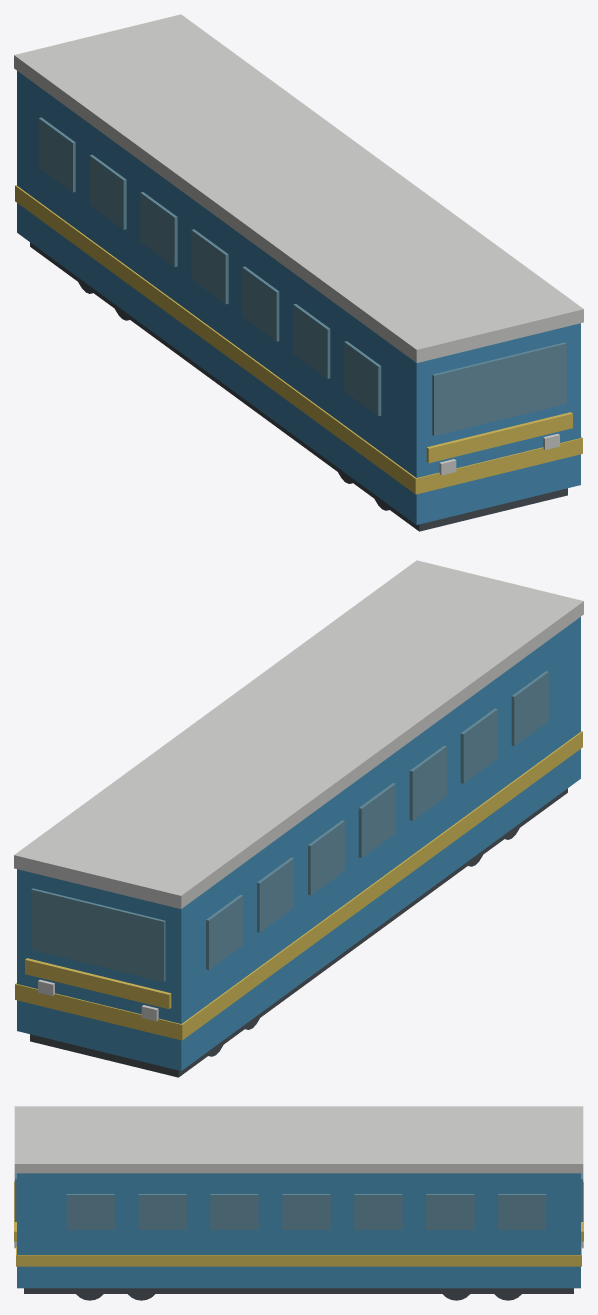
File: sa_commuter_train.glb
3 views of the same model, one above another, from view 1: azimuth 30°, elevation 25°; view 2: azimuth 150°, elevation 25°; view 3: azimuth 270°, elevation 25° (orthographic). The views are drawn at different scales.
Parts seen in each view (by area): view 1: white_roof, blue_carriage, yellow_belt, cab_windshield_6.02, dark_undercarriage, cab_lower_6.02, passenger_window_-1_0, passenger_window_-1_3, passenger_window_-1_6, passenger_window_-1_1, passenger_window_-1_4, passenger_window_-1_2 (+1 smaller); view 2: white_roof, blue_carriage, yellow_belt, cab_windshield_-6.02, dark_undercarriage, cab_lower_-6.02, passenger_window_-1_5, passenger_window_-1_6, passenger_window_-1_3, passenger_window_-1_0, passenger_window_-1_4, passenger_window_-1_1 (+1 smaller); view 3: blue_carriage, white_roof, yellow_belt, dark_undercarriage, passenger_window_1_0, passenger_window_1_1, passenger_window_1_2, passenger_window_1_3, passenger_window_1_4, passenger_window_1_5, passenger_window_1_6.
Boxes of the visible parts, x1,y1,x2,y2 form: white_roof: (14,14,583,362); blue_carriage: (17,71,580,524); yellow_belt: (15,185,582,494); cab_windshield_6.02: (432,342,566,435); dark_undercarriage: (30,242,567,531); cab_lower_6.02: (426,412,572,463); passenger_window_-1_0: (38,117,75,192); passenger_window_-1_3: (191,229,228,304); passenger_window_-1_6: (344,341,381,416); passenger_window_-1_1: (89,154,126,229); passenger_window_-1_4: (242,266,279,341); passenger_window_-1_2: (140,192,177,266); white_roof: (14,560,583,908); blue_carriage: (17,617,580,1070); yellow_belt: (15,731,582,1040); cab_windshield_-6.02: (31,888,165,981); dark_undercarriage: (30,788,567,1077); cab_lower_-6.02: (25,958,171,1009); passenger_window_-1_5: (460,708,497,783); passenger_window_-1_6: (511,671,548,746); passenger_window_-1_3: (358,783,395,858); passenger_window_-1_0: (206,895,243,969); passenger_window_-1_4: (409,746,446,820); passenger_window_-1_1: (257,857,293,932); blue_carriage: (17,1173,580,1288); white_roof: (14,1106,583,1173); yellow_belt: (16,1247,581,1266); dark_undercarriage: (24,1288,573,1293); passenger_window_1_0: (498,1194,546,1229); passenger_window_1_1: (426,1194,474,1229); passenger_window_1_2: (354,1194,402,1229); passenger_window_1_3: (282,1194,330,1229); passenger_window_1_4: (210,1194,258,1229); passenger_window_1_5: (138,1194,186,1229); passenger_window_1_6: (66,1194,114,1229).
Bounding box in the file's own units: 2.95 × 3.36 × 12.13.
